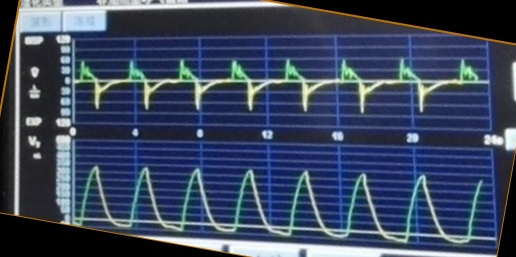Accumulation Flow: (75, 53, 480, 117)
Volume: (76, 163, 485, 243)
